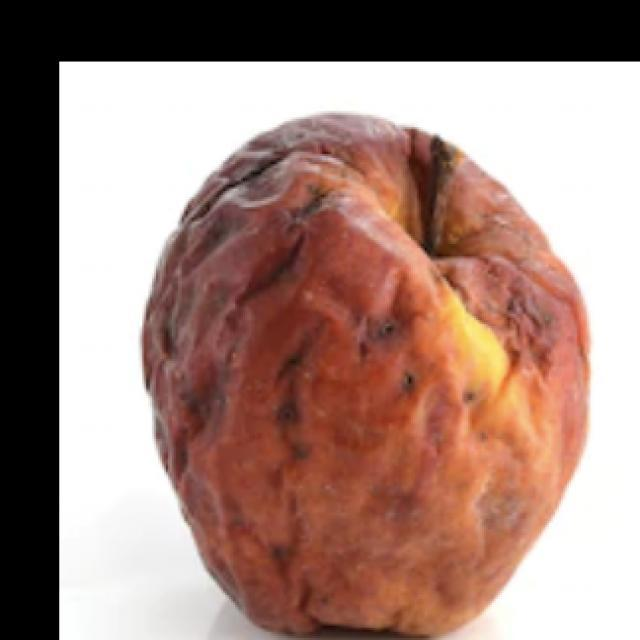Rotten: (182, 105, 586, 640)
